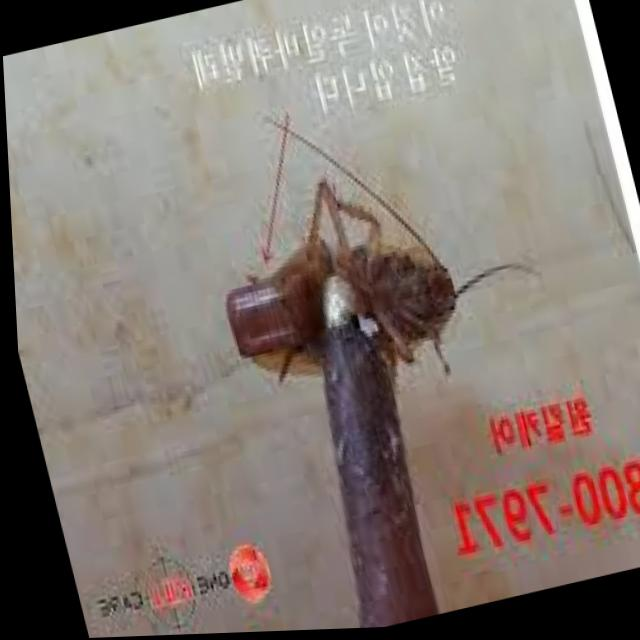Cockroach: (172, 74, 566, 440)
